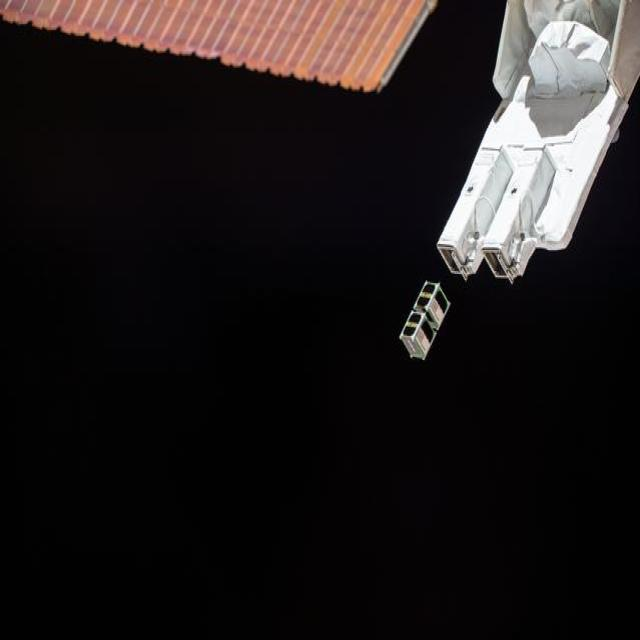satellite: (438, 0, 640, 281), (0, 0, 435, 91), (400, 282, 450, 358)
